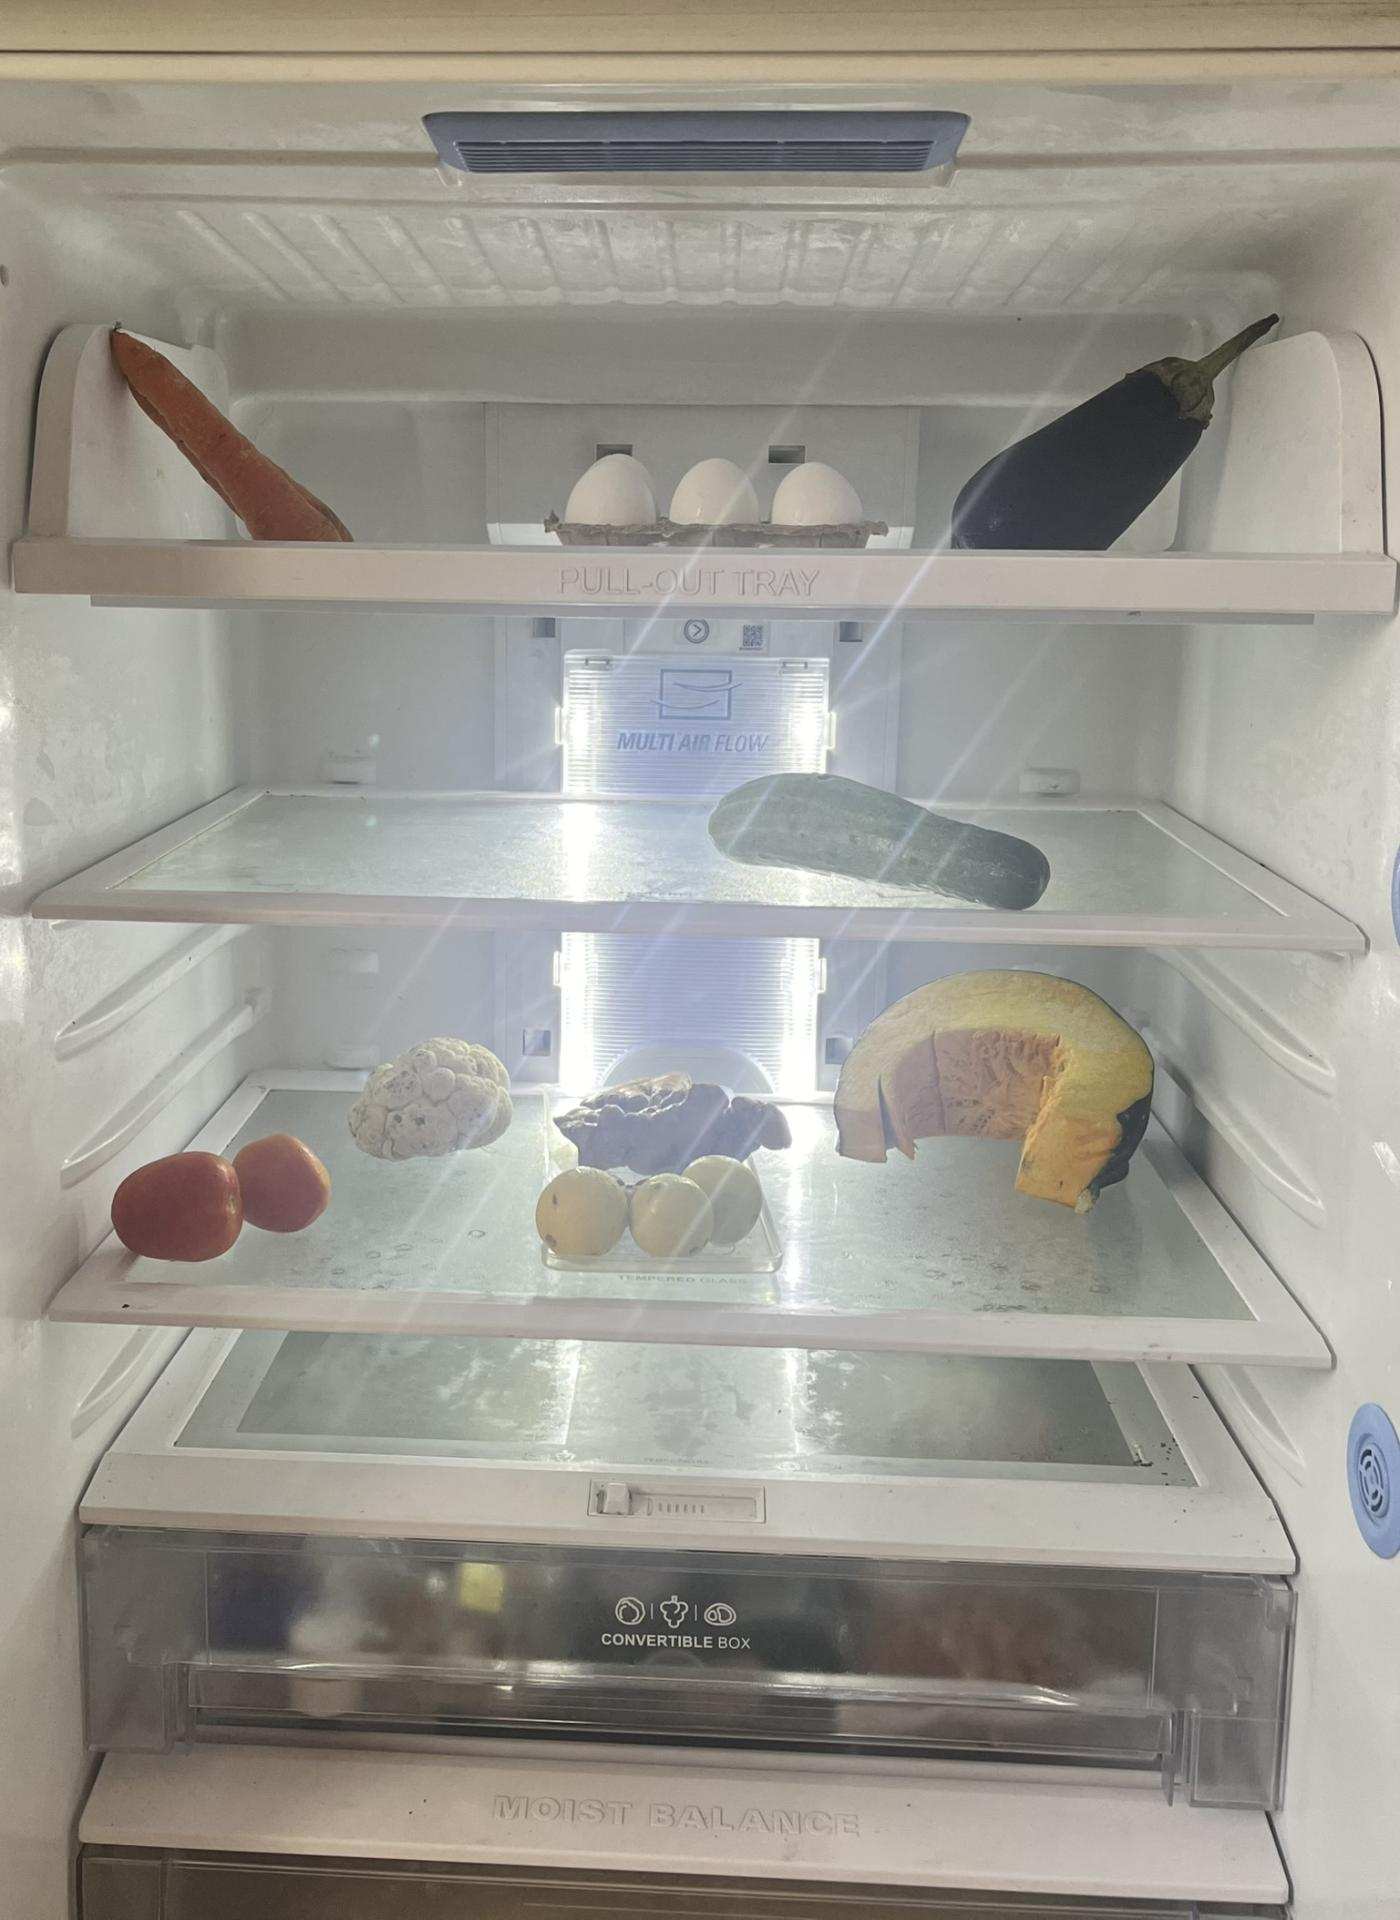brinjal: (938, 292, 1275, 559)
carrots: (89, 307, 344, 541)
cauliflower: (344, 1033, 517, 1164)
cucumber: (707, 774, 1063, 915)
egg: (556, 458, 884, 534)
ginger: (562, 1063, 781, 1157)
lemon: (532, 1161, 772, 1267)
pumpkin: (836, 964, 1169, 1212)
tomato: (110, 1125, 341, 1248)
